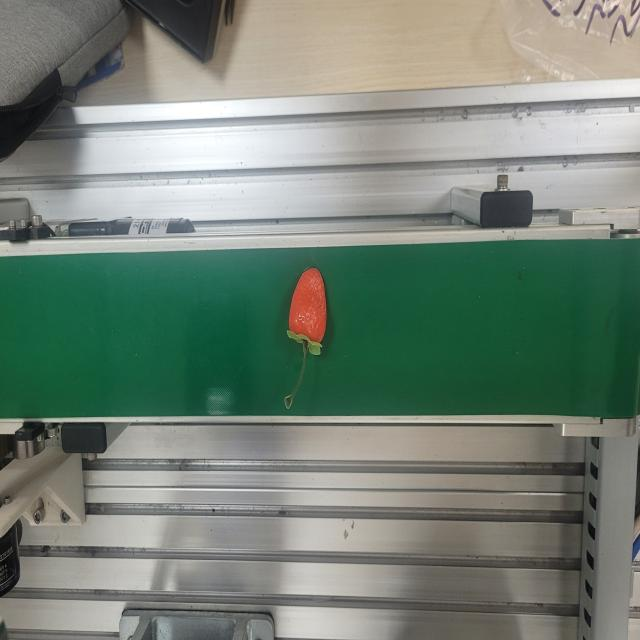Small Ripe Strawberry: (282, 263, 329, 410)
